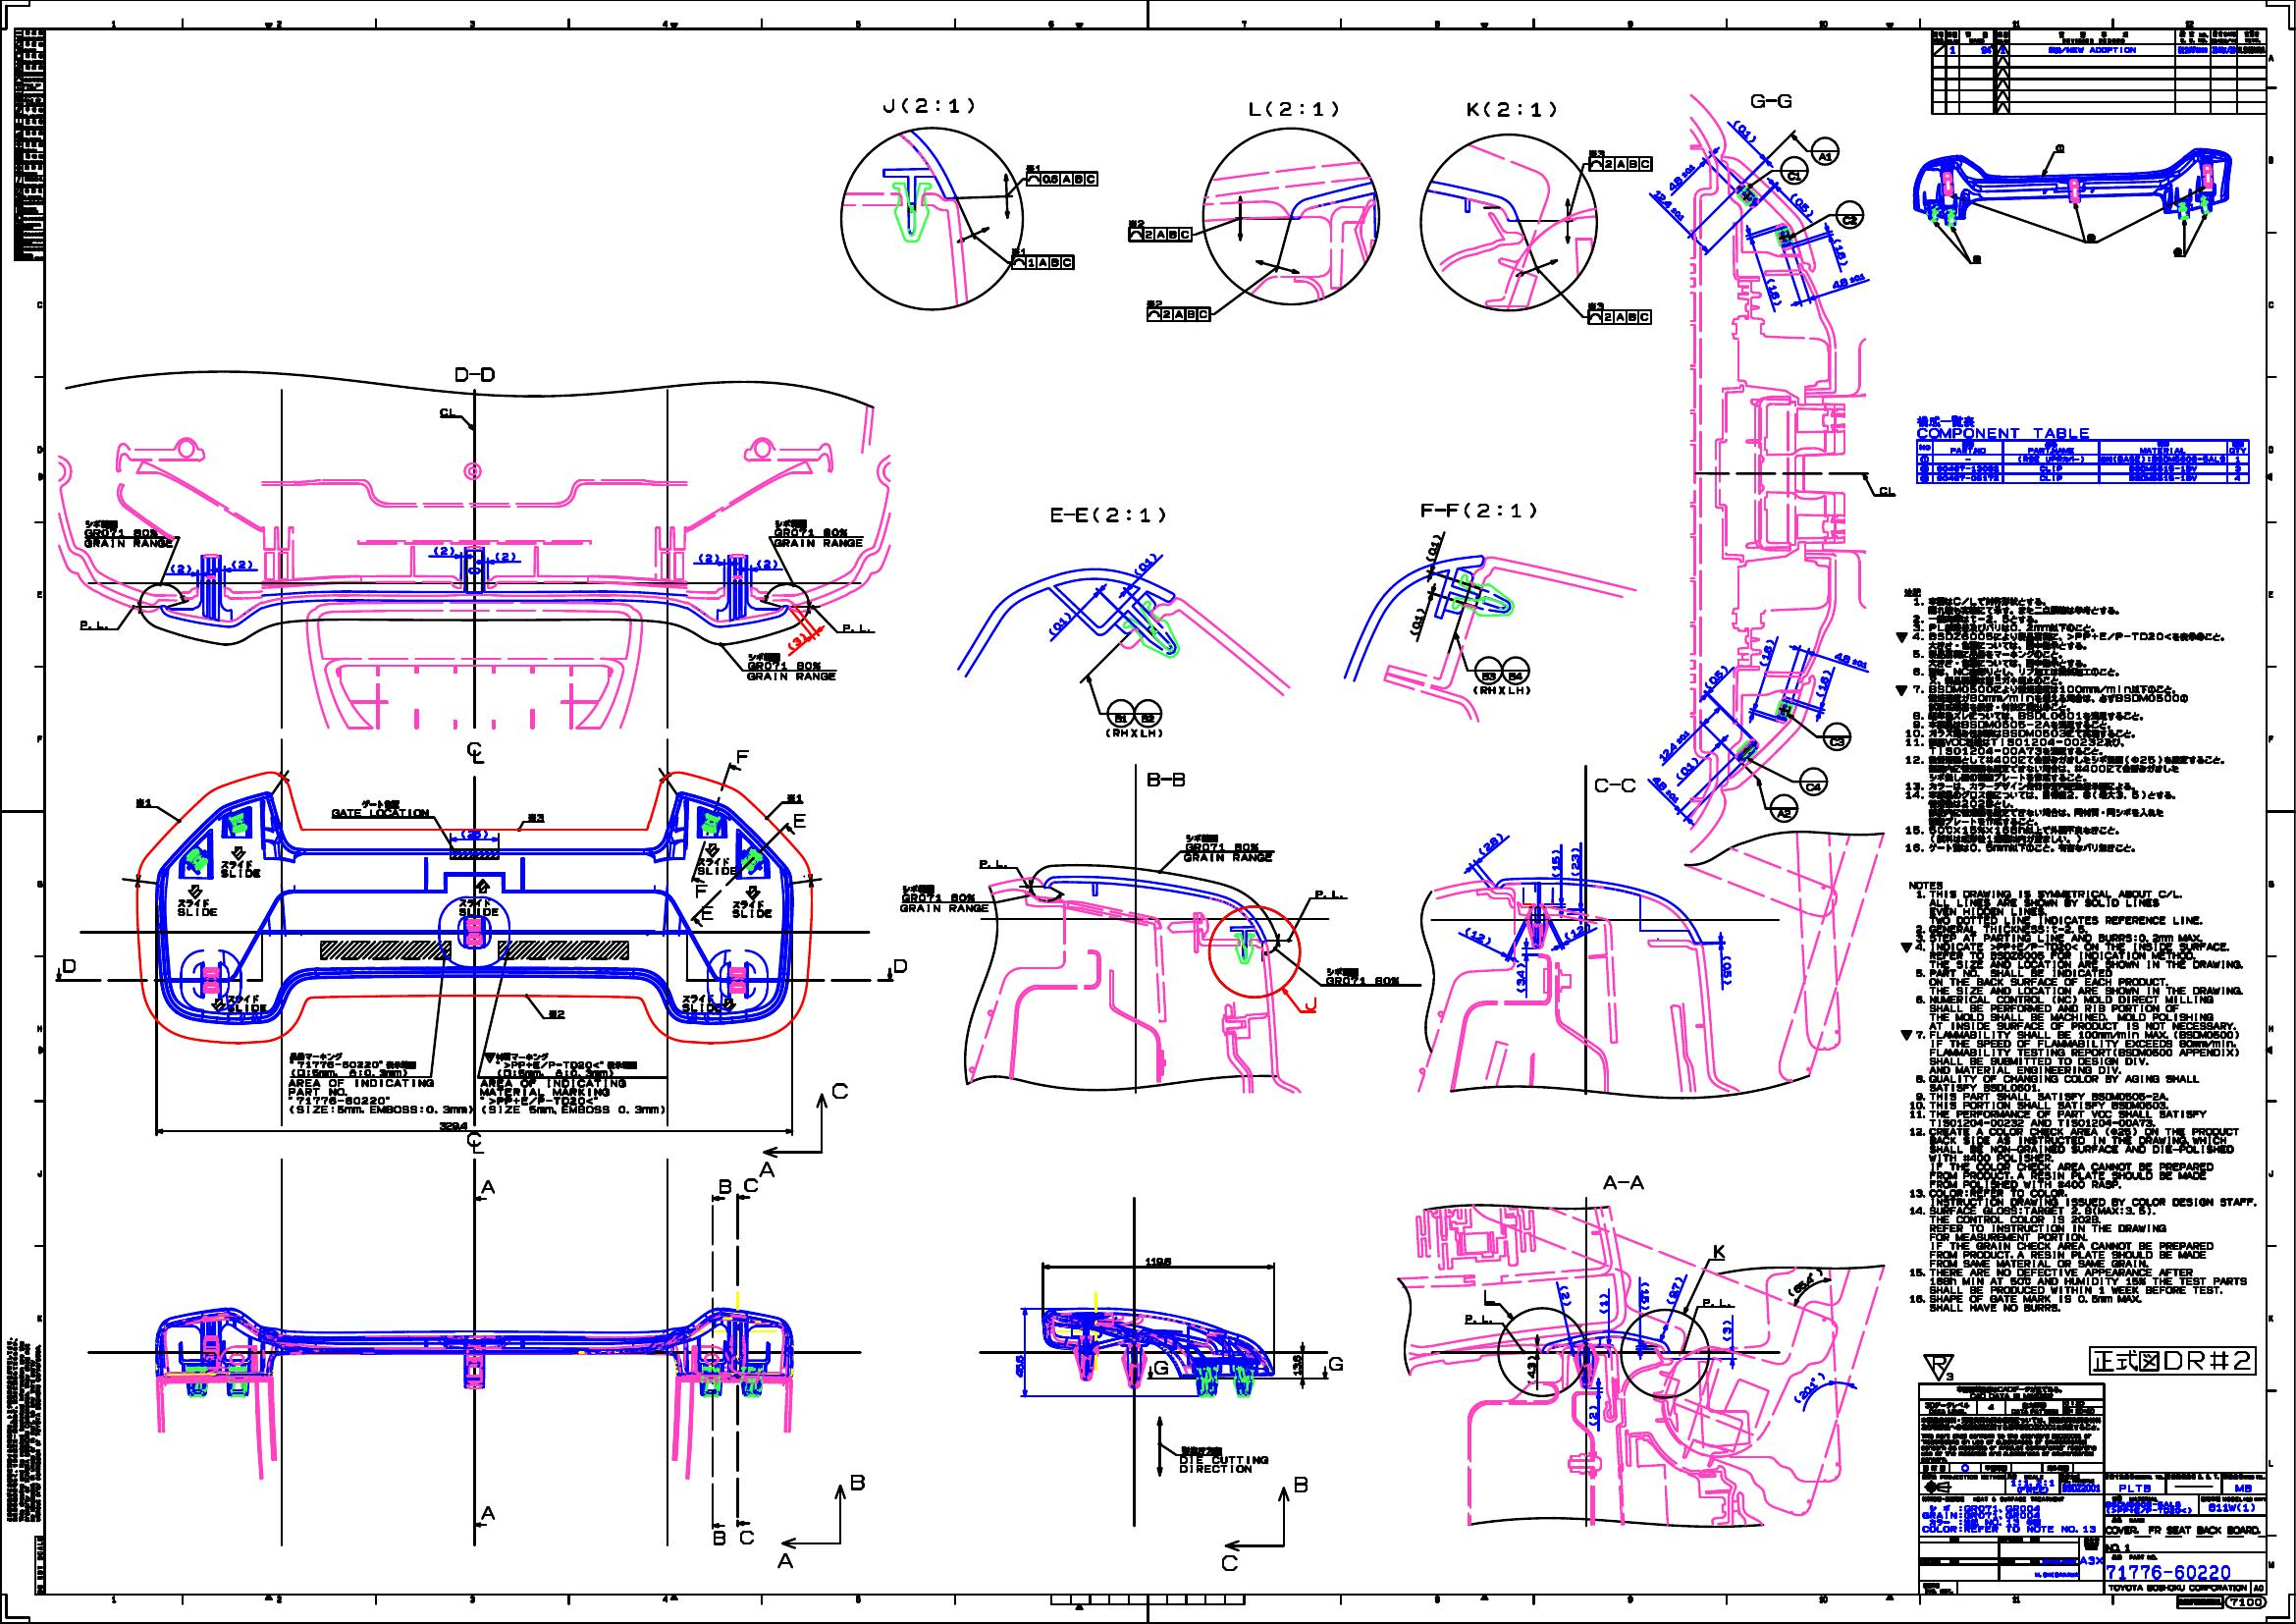anntotation_text: (1899, 881, 2259, 1313), (1894, 587, 2226, 854), (5, 1336, 42, 1522), (1917, 415, 2090, 439), (480, 1077, 627, 1104), (288, 1077, 434, 1104), (747, 650, 838, 682), (898, 884, 989, 914), (83, 518, 172, 548), (1184, 833, 1274, 863), (1179, 1445, 1270, 1473), (773, 518, 864, 547), (495, 1051, 638, 1069), (1472, 656, 1532, 696), (1105, 698, 1163, 738), (288, 1051, 416, 1069), (1419, 501, 1535, 520), (1049, 506, 1165, 526), (882, 95, 975, 116), (330, 798, 430, 817), (1247, 100, 1339, 121), (1022, 163, 1100, 188), (1588, 148, 1655, 172), (1465, 100, 1556, 118), (1147, 299, 1212, 323), (1126, 220, 1193, 243), (1586, 302, 1651, 325), (1010, 248, 1075, 271), (1325, 967, 1402, 984), (1834, 199, 1866, 230), (1769, 793, 1799, 824), (1809, 135, 1841, 165), (1780, 155, 1809, 186), (1822, 721, 1852, 750), (682, 993, 722, 1014), (1799, 766, 1827, 796), (220, 859, 262, 879), (733, 900, 773, 919), (177, 898, 218, 917), (1602, 1174, 1646, 1192), (453, 366, 495, 383), (457, 898, 499, 916), (697, 858, 736, 875), (228, 993, 267, 1011), (1593, 777, 1635, 793), (1750, 93, 1794, 107), (1145, 772, 1186, 786), (848, 1473, 866, 1492), (1326, 1355, 1346, 1373), (785, 634, 808, 649), (79, 620, 109, 631), (775, 1552, 792, 1570), (1221, 1554, 1238, 1571), (466, 738, 481, 758), (791, 812, 808, 828), (759, 1160, 775, 1178), (831, 1083, 848, 1098), (711, 1529, 727, 1547), (738, 1529, 755, 1545), (841, 624, 871, 633), (978, 858, 1008, 866), (1314, 889, 1344, 898), (1702, 1299, 1732, 1308), (480, 1178, 495, 1193), (61, 958, 77, 974), (480, 1504, 495, 1520), (734, 749, 748, 766), (1293, 1476, 1307, 1494), (1463, 1313, 1491, 1322), (755, 559, 778, 569), (170, 562, 191, 573), (466, 1132, 481, 1146), (717, 1178, 731, 1193), (892, 958, 906, 974), (1154, 1360, 1170, 1374), (495, 550, 515, 561), (432, 547, 455, 555), (697, 554, 720, 562), (743, 1178, 757, 1192), (1713, 1243, 1725, 1258), (437, 406, 455, 417), (232, 559, 253, 568), (135, 796, 153, 807), (548, 1009, 566, 1019), (696, 884, 708, 898), (701, 905, 713, 919), (785, 793, 803, 801), (527, 814, 545, 823), (1880, 487, 1895, 496), (2085, 232, 2094, 243), (2171, 246, 2182, 255), (2055, 144, 2064, 153), (1973, 255, 1982, 262)
dimension_text: (288, 1104, 473, 1114), (481, 1104, 664, 1114), (290, 1069, 408, 1076), (497, 1069, 613, 1076), (1667, 724, 1679, 765), (1664, 185, 1676, 223), (1830, 274, 1866, 286), (1834, 237, 1848, 265), (1767, 278, 1781, 306), (1801, 1374, 1815, 1401), (1795, 190, 1808, 220), (1832, 656, 1869, 664), (1729, 125, 1758, 135), (1818, 668, 1829, 698), (1681, 752, 1692, 782), (1676, 160, 1685, 195), (1648, 784, 1683, 793), (1762, 638, 1773, 666), (1711, 663, 1722, 691), (1291, 1353, 1303, 1376), (1799, 1269, 1809, 1295), (1145, 1257, 1172, 1267), (437, 1121, 467, 1130), (1426, 540, 1439, 559), (1669, 1280, 1679, 1301), (1484, 835, 1497, 852), (1138, 555, 1149, 575), (1015, 1355, 1024, 1378), (1411, 613, 1423, 629), (1572, 921, 1583, 939), (1469, 930, 1486, 940), (1054, 613, 1063, 633), (1570, 852, 1579, 870), (1516, 968, 1525, 986), (1641, 1288, 1650, 1304), (1723, 961, 1732, 977), (1527, 1362, 1535, 1378), (1551, 856, 1560, 870), (1560, 1292, 1570, 1299), (1599, 1301, 1607, 1308), (1722, 1327, 1730, 1334), (1590, 1411, 1597, 1418)
object: (56, 367, 892, 731), (135, 770, 815, 1044), (1395, 1202, 1885, 1527), (1685, 91, 1867, 852), (1416, 830, 1885, 1098), (153, 1306, 796, 1480), (963, 861, 1302, 1095), (1340, 552, 1637, 722), (954, 564, 1293, 698), (840, 127, 1024, 311), (1418, 132, 1597, 311), (1200, 127, 1381, 304), (1913, 146, 2233, 228), (1040, 1306, 1275, 1399)
title_block: (1917, 1381, 2268, 1596), (1931, 26, 2268, 114), (1917, 438, 2250, 483), (12, 26, 46, 262), (2087, 1345, 2257, 1376), (1922, 1352, 1955, 1381), (2177, 1596, 2224, 1610)
